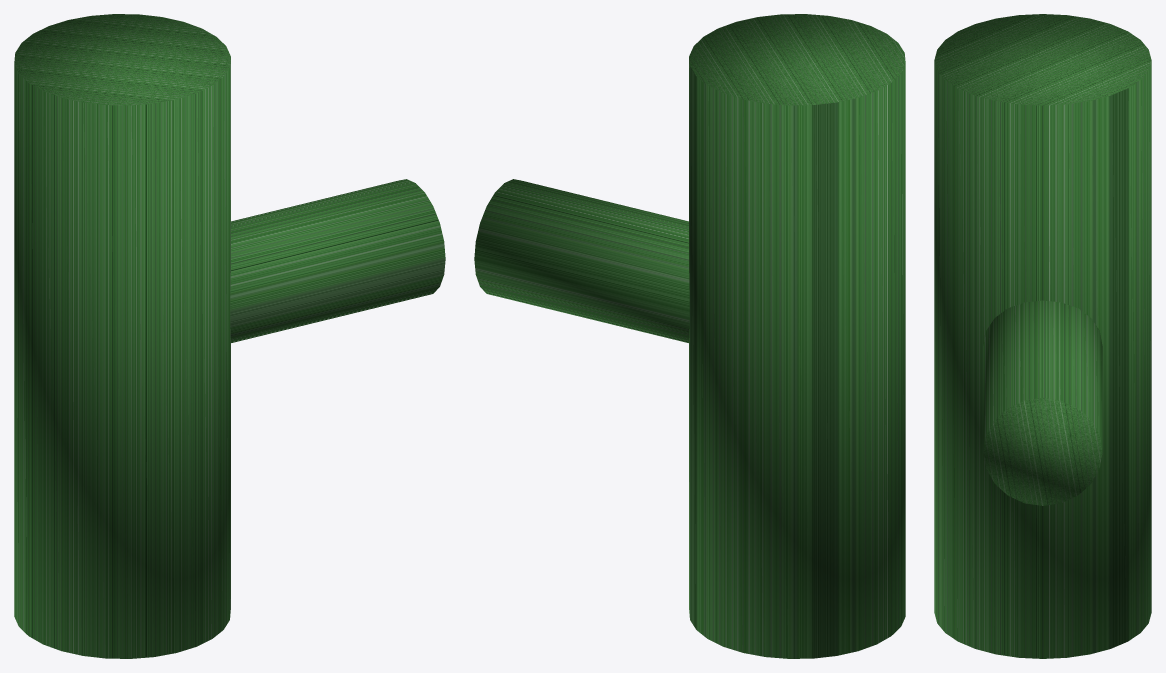
Rendered from cactus_short.glb.
3 views of the same model, side by side, from view 1: azimuth 30°, elevation 25°; view 2: azimuth 150°, elevation 25°; view 3: azimuth 270°, elevation 25° (orthographic).
Visible parts, largest first — view 1: Cylinder, Cylinder.001; view 2: Cylinder, Cylinder.001; view 3: Cylinder, Cylinder.001.
Boxes of the visible parts, bbox=[...] form: Cylinder: bbox=[14, 14, 230, 658]; Cylinder.001: bbox=[230, 179, 445, 342]; Cylinder: bbox=[689, 14, 905, 658]; Cylinder.001: bbox=[474, 179, 689, 342]; Cylinder: bbox=[934, 14, 1151, 658]; Cylinder.001: bbox=[983, 300, 1102, 505].
Bounding box in the file's own units: 1.32 × 1.8 × 0.64.
1 material, 1 textured.
